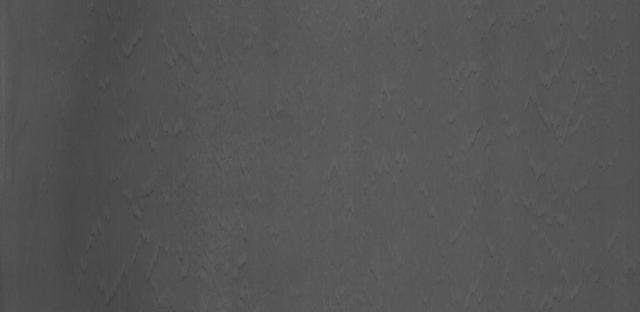silk_spot: (80, 28, 315, 276), (418, 78, 510, 184)
